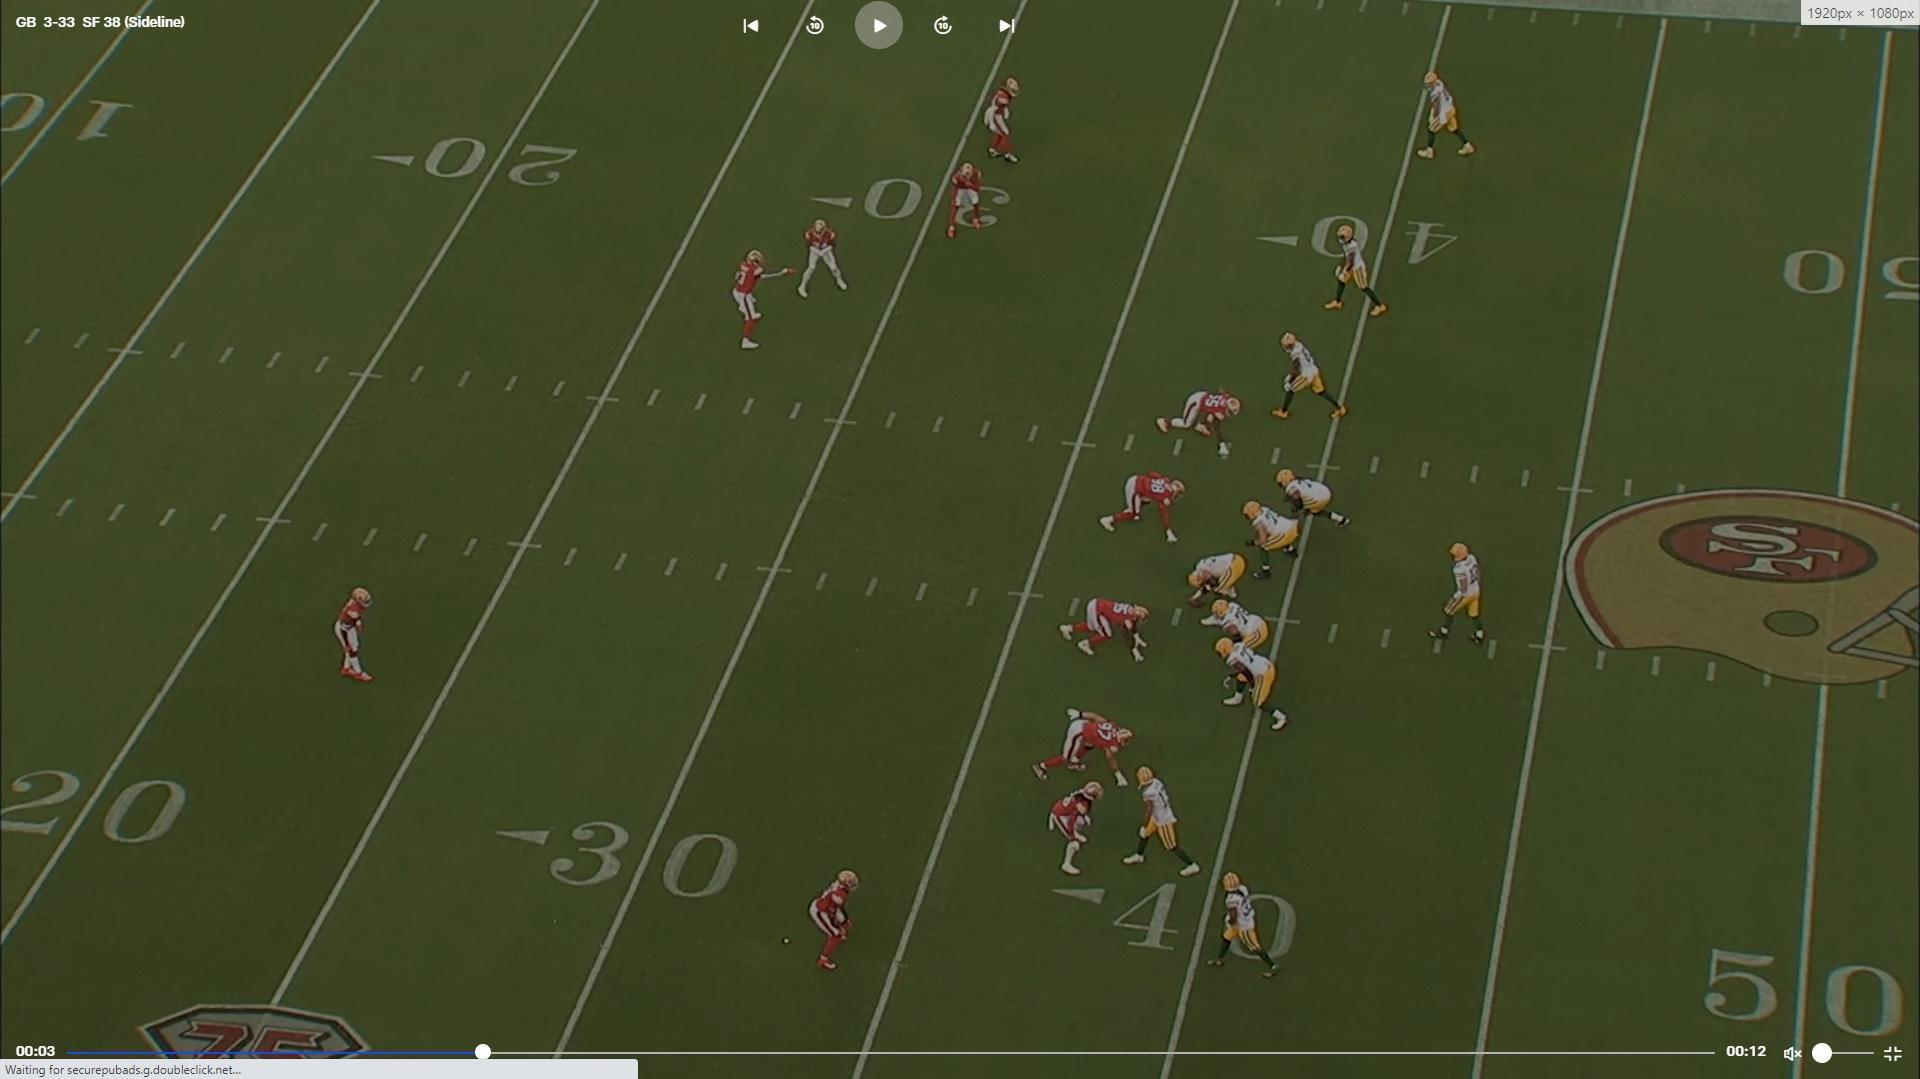player: (1125, 764, 1208, 883), (1030, 707, 1137, 787), (1209, 871, 1285, 983), (1272, 327, 1352, 425), (1218, 639, 1292, 738), (1325, 222, 1393, 322), (1156, 387, 1244, 464), (1101, 471, 1193, 542), (1054, 599, 1151, 666), (1419, 67, 1481, 168), (812, 866, 868, 974), (1436, 539, 1491, 648), (1051, 780, 1106, 882), (1242, 497, 1306, 581), (1274, 467, 1347, 535), (795, 212, 852, 299), (329, 587, 377, 690), (729, 246, 774, 355), (949, 161, 1002, 247), (979, 75, 1024, 168), (1190, 551, 1252, 614), (1211, 601, 1277, 657)
